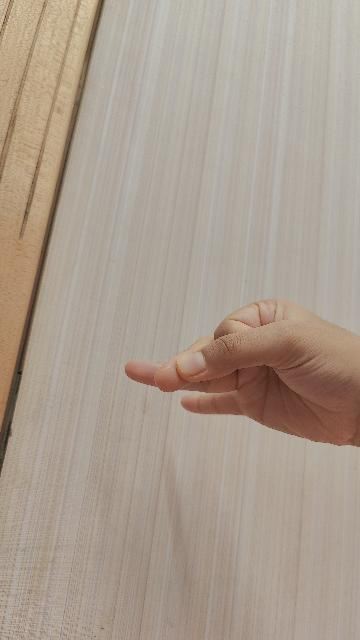bhramara: (125, 298, 360, 449)
